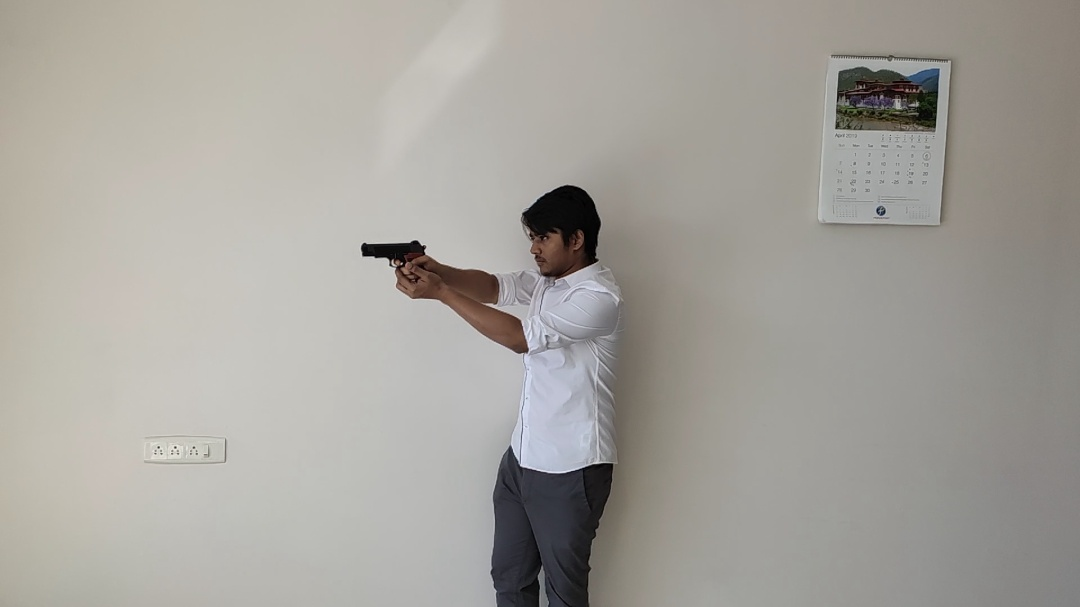gun: (361, 239, 427, 277)
